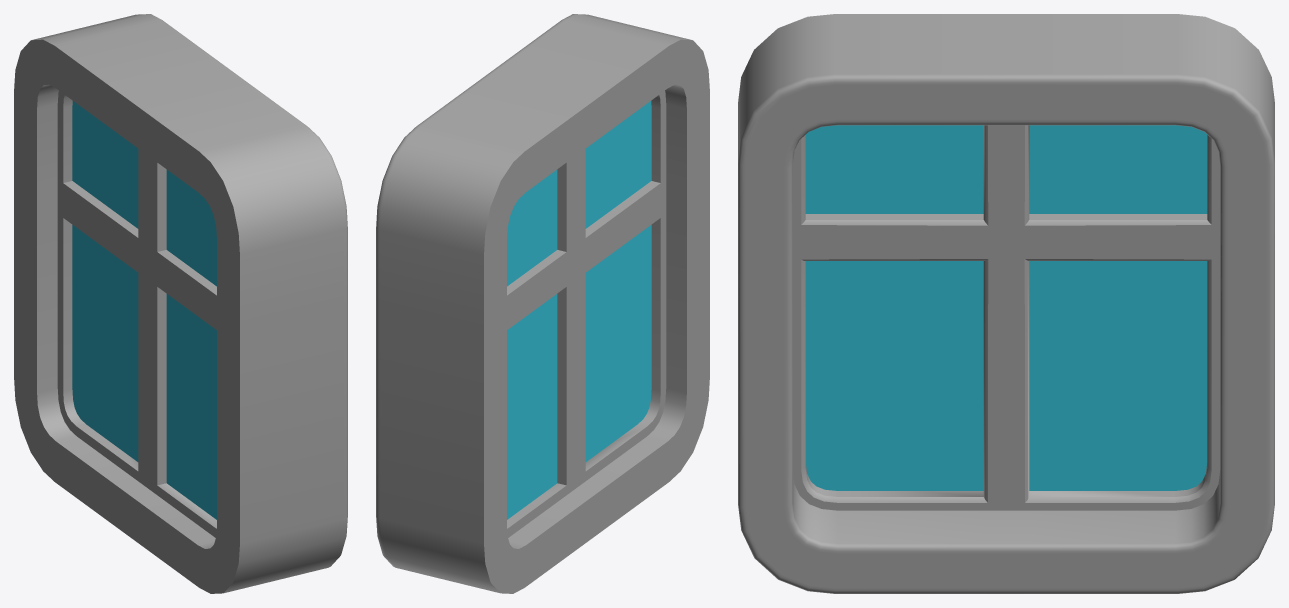
File: Windows.FBX
The picture shows the model from 3 angles, left to right: view 1: azimuth 30°, elevation 25°; view 2: azimuth 150°, elevation 25°; view 3: azimuth 270°, elevation 25°; orthographic projection. The views are drawn at different scales.
Visible parts, largest first — view 1: Windows; view 2: Windows; view 3: Windows.
Boxes of the visible parts, box(x1,y1,x2,y2) form: Windows: box(14, 14, 347, 593); Windows: box(376, 14, 709, 593); Windows: box(738, 14, 1274, 593).
Bounding box in the file's own units: 7.21 × 27.49 × 25.8.
